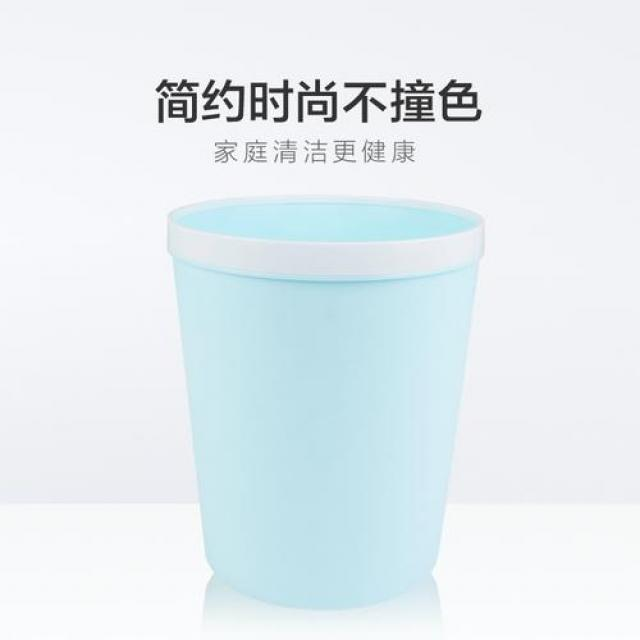Dustbin: (160, 186, 491, 613)
